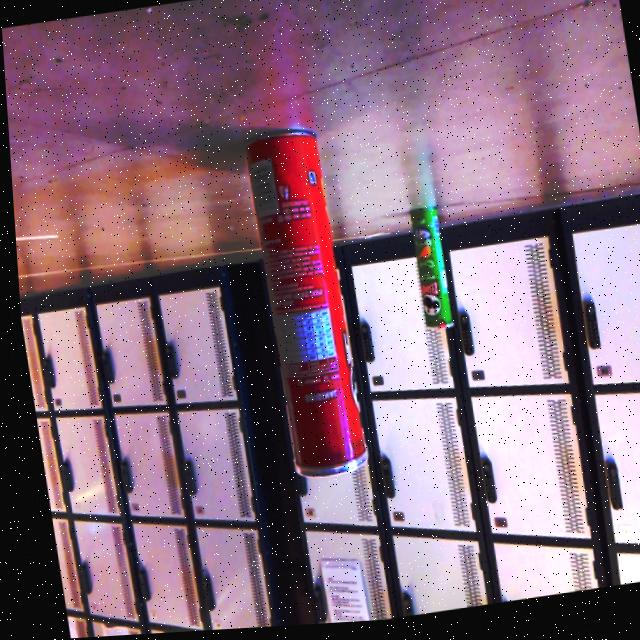greenpringles: (393, 195, 463, 346)
redpringles: (211, 119, 382, 487)
